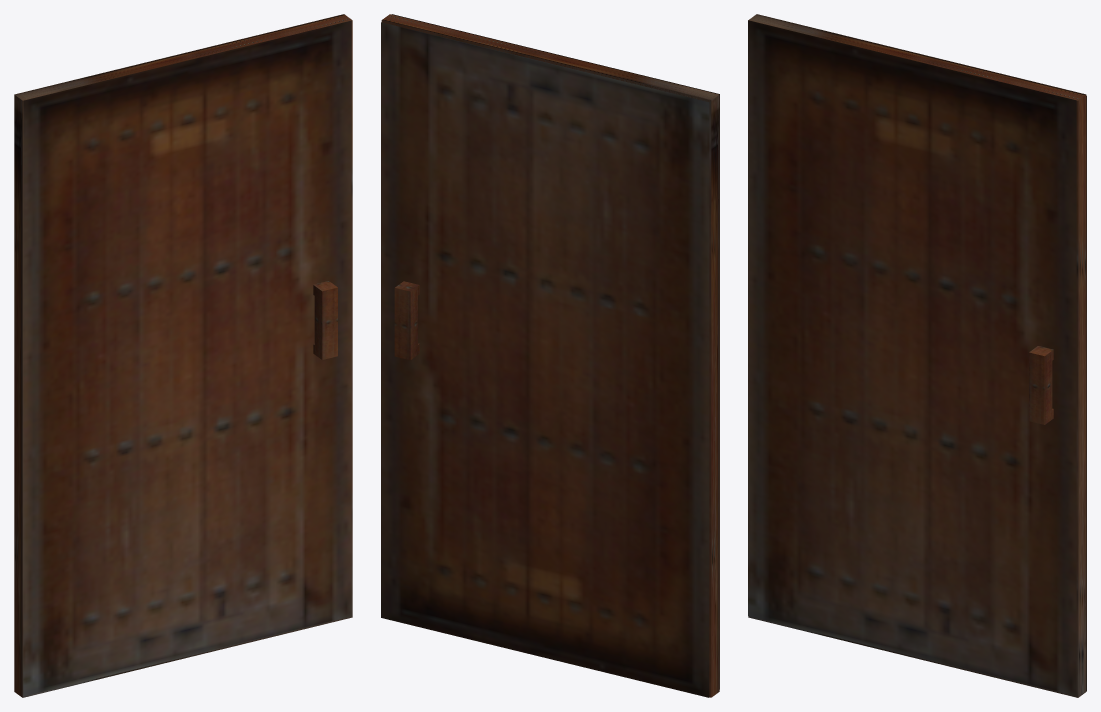
File: build5adoor.gltf
The picture shows the model from 3 angles, left to right: view 1: azimuth 30°, elevation 25°; view 2: azimuth 150°, elevation 25°; view 3: azimuth 330°, elevation 25°; orthographic projection.
Parts seen in each view (by area): view 1: build5adoor; view 2: build5adoor; view 3: build5adoor.
Part boxes in pixels (x1,y1,x2,y2): build5adoor: (14, 14, 352, 697); build5adoor: (381, 14, 719, 697); build5adoor: (748, 14, 1086, 697).
Bounding box in the file's own units: 1.38 × 2.39 × 0.1979.
Materials: 2 (2 with a texture image).
